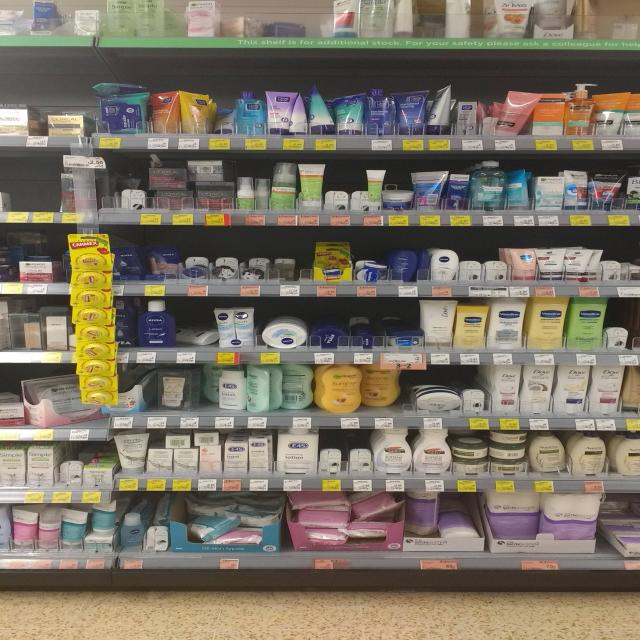empty: (8, 153, 58, 216)
